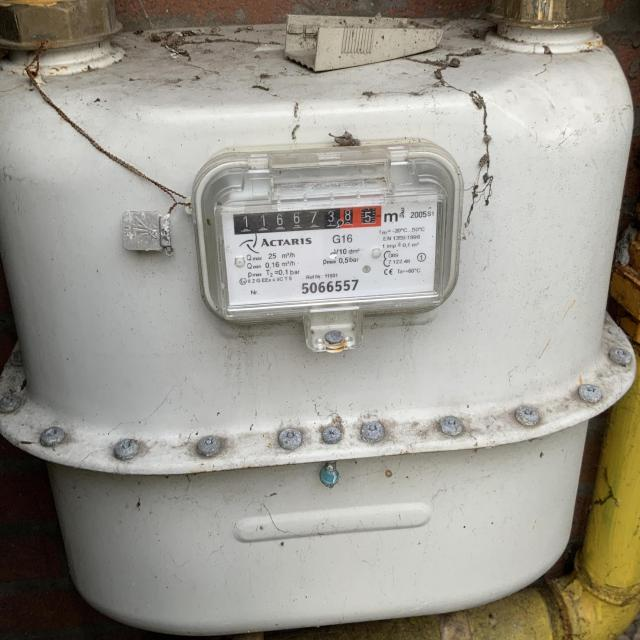gaz_meter: (202, 161, 451, 308)
indication: (232, 205, 380, 235)
